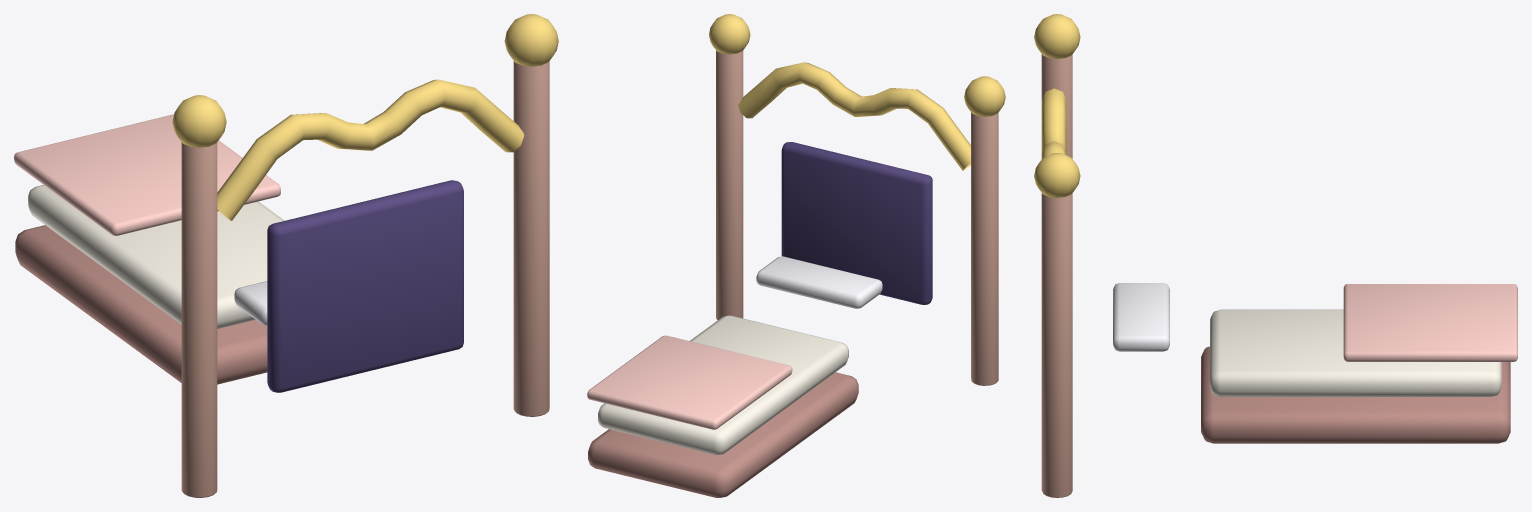
Rendered from dream_bed_4.glb.
The picture shows the model from 3 angles, left to right: view 1: azimuth 30°, elevation 25°; view 2: azimuth 150°, elevation 25°; view 3: azimuth 270°, elevation 25°; orthographic projection. The views are drawn at different scales.
Visible parts, largest first — view 1: HeadboardInk.005, Blanket.005, Mattress.005, HeadPost_-1.005, HeadPost_1.005, BedFrame.005, HeadboardCrown.005, PostPearl_-1.005, PostPearl_1.005, Pillow.005; view 2: HeadboardInk.005, BedFrame.005, Blanket.005, Mattress.005, HeadPost_-1.005, HeadPost_1.005, HeadboardCrown.005, Pillow.005, PostPearl_-1.005, PostPearl_1.005; view 3: Mattress.005, BedFrame.005, Blanket.005, HeadPost_1.005, Pillow.005, PostPearl_-1.005, PostPearl_1.005, HeadboardCrown.005, HeadPost_-1.005.
Boxes of the visible parts, x1,y1,x2,y2 form: HeadboardInk.005: (267, 180, 463, 392); Blanket.005: (14, 114, 280, 235); Mattress.005: (28, 185, 284, 328); HeadPost_-1.005: (181, 142, 217, 497); HeadPost_1.005: (513, 61, 549, 416); BedFrame.005: (15, 225, 267, 384); HeadboardCrown.005: (217, 79, 524, 220); PostPearl_-1.005: (172, 95, 226, 147); PostPearl_1.005: (504, 14, 558, 66); Pillow.005: (234, 281, 267, 325); HeadboardInk.005: (781, 142, 932, 304); BedFrame.005: (588, 372, 858, 497); Blanket.005: (587, 335, 792, 429); Mattress.005: (598, 315, 848, 454); HeadPost_-1.005: (971, 112, 998, 385); HeadPost_1.005: (716, 50, 743, 319); HeadboardCrown.005: (738, 62, 970, 170); Pillow.005: (756, 256, 882, 308); PostPearl_-1.005: (964, 76, 1005, 116); PostPearl_1.005: (709, 14, 750, 54); Mattress.005: (1210, 309, 1501, 396); BedFrame.005: (1201, 346, 1510, 443); Blanket.005: (1343, 284, 1517, 361); HeadPost_1.005: (1041, 193, 1072, 497); Pillow.005: (1113, 283, 1169, 351); PostPearl_-1.005: (1034, 14, 1080, 59); PostPearl_1.005: (1034, 153, 1080, 197); HeadboardCrown.005: (1041, 88, 1066, 158); HeadPost_-1.005: (1041, 54, 1072, 158).
Size of the model in its own units: 7.26 by 7.2 by 9.37.
